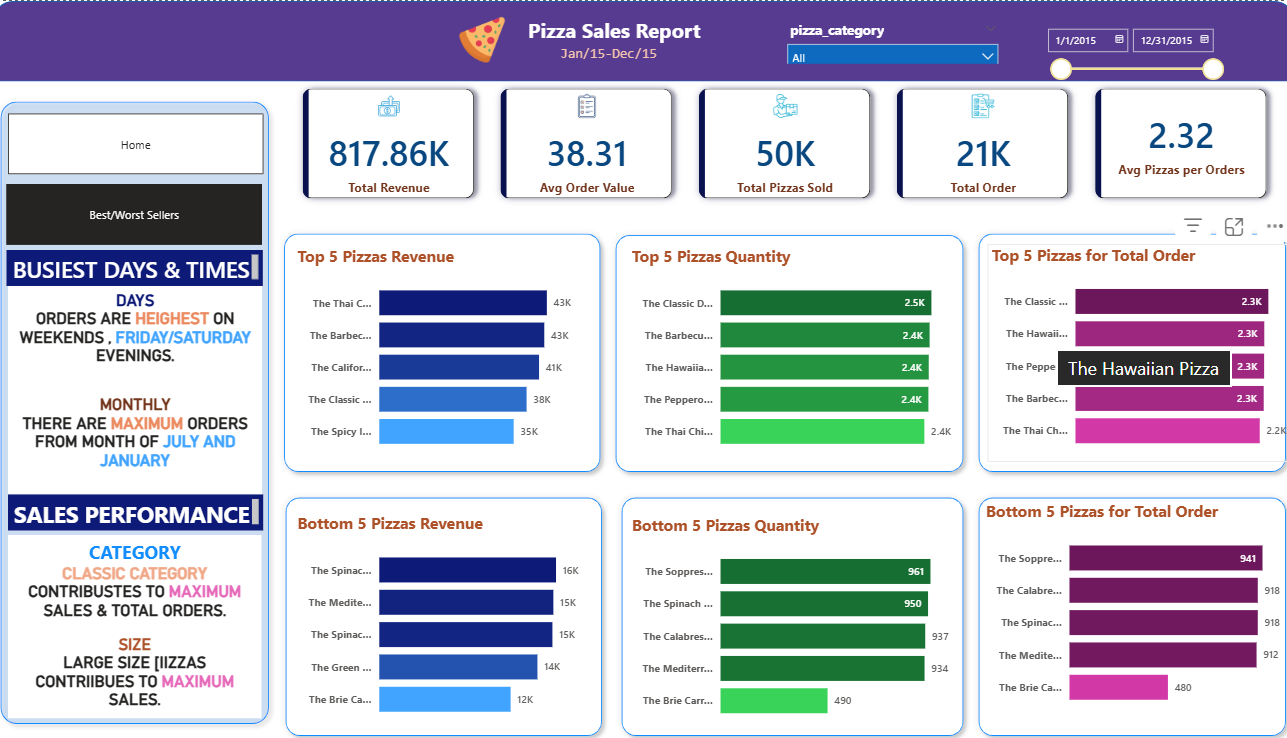

What the dashboard file says about the page in this screenshot:
{"tool":"powerbi","page":{"name":"Best/Worst Sellers","canvas":[1543,880],"ordinal":1},"visuals":[{"type":"cardVisual","fields":{"Data":["pizza_sales.Total Revenue","pizza_sales.Avg Order Value","pizza_sales.Total Pizzas Sold","pizza_sales.Total Order","pizza_sales.Avg Pizzas per Orders"]},"box":[338.1,74.9,1204.6,188.3],"z":0},{"type":"shape","box":[0,0,1543.5,95.5],"z":1000},{"type":"textbox","box":[408.9,12.8,655.3,67.5],"z":2000},{"type":"textbox","box":[649.5,47.9,161.5,31.9],"z":3000},{"type":"image","box":[533.9,17,92.4,56.6],"z":4000},{"type":"shape","box":[336.2,266.9,393.2,300.7],"z":5000},{"type":"shape","box":[0,110.3,336.2,756.1],"z":6000},{"type":"textbox","box":[16.2,295.6,303.7,42.5],"z":7000},{"type":"textbox","box":[18.2,338.1,301.7,247],"z":8000},{"type":"textbox","box":[17.8,585.3,302.4,42.7],"z":9000},{"type":"textbox","box":[17.8,633.3,300.7,217],"z":10000},{"type":"slicer","fields":{"Values":["pizza_sales (2).pizza_category"]},"box":[932.7,18.3,270.1,56.6],"z":11000},{"type":"slicer","fields":{"Values":["pizza_sales (2).order_date"]},"box":[1237.6,23.7,230,71.2],"z":12000},{"type":"shape","box":[729.4,268.6,430.5,298.9],"z":13000},{"type":"shape","box":[1159.9,266.9,382.5,300.7],"z":14000},{"type":"shape","box":[338,580,393.2,300.7],"z":15000},{"type":"shape","box":[736.5,580,423.4,300.7],"z":16000},{"type":"shape","box":[1159.9,580,382.5,300.7],"z":17000},{"type":"barChart","title":"Top 5 Pizzas Revenue ","fields":{"Category":["pizza_sales (2).pizza_name"],"Y":["pizza_sales.Total Revenue"]},"box":[355.8,290,355.8,256.2],"z":18000},{"type":"barChart","title":"Bottom 5 Pizzas Revenue ","fields":{"Category":["pizza_sales (2).pizza_name"],"Y":["pizza_sales.Total Revenue"]},"box":[355.9,606,355.9,257.4],"z":19000},{"type":"barChart","title":"Top 5 Pizzas Quantity","fields":{"Category":["pizza_sales (2).pizza_name"],"Y":["pizza_sales.Total Pizzas Sold"]},"box":[752.5,290,389.6,256.2],"z":20000},{"type":"barChart","title":"Bottom 5 Pizzas Quantity","fields":{"Category":["pizza_sales (2).pizza_name"],"Y":["pizza_sales.Total Pizzas Sold"]},"box":[752,607.8,388.8,257.4],"z":21000},{"type":"barChart","title":"Top 5 Pizzas for Total Order","fields":{"Category":["pizza_sales (2).pizza_name"],"Y":["pizza_sales.Total Order"]},"box":[1179.2,288.4,363.2,257.4],"z":22000},{"type":"barChart","title":"Bottom 5 Pizzas for Total Order","fields":{"Category":["pizza_sales (2).pizza_name"],"Y":["pizza_sales.Total Order"]},"box":[1171.9,593.2,363.2,257.4],"z":23000},{"type":"image","box":[267.2,214.6,54.7,72.9],"z":24000},{"type":"image","box":[18.2,224.7,48.6,56.7],"z":25000},{"type":"image","box":[18.2,133.6,74.9,60.7],"z":26000},{"type":"pageNavigator","box":[16.2,216.6,303.7,72.9],"z":27000},{"type":"pageNavigator","box":[18.2,133.6,303.7,72.9],"z":28000}]}

Visuals, with their boxes in screenshot pixels (x1, y1, x2, y2), scaled from the page's 1543x880 canvas onto the 1287x738 screenshot:
cardVisual - pizza_sales.Total Revenue x pizza_sales.Avg Order Value: Rect(282, 63, 1286, 221)
shape: Rect(0, 0, 1286, 80)
textbox: Rect(341, 11, 888, 67)
textbox: Rect(542, 40, 676, 67)
image: Rect(445, 14, 522, 62)
shape: Rect(280, 224, 608, 476)
shape: Rect(0, 93, 280, 727)
textbox: Rect(14, 248, 267, 284)
textbox: Rect(15, 284, 267, 491)
textbox: Rect(15, 491, 267, 527)
textbox: Rect(15, 531, 266, 713)
slicer - pizza_sales (2).pizza_category: Rect(778, 15, 1003, 63)
slicer - pizza_sales (2).order_date: Rect(1032, 20, 1224, 80)
shape: Rect(608, 225, 967, 476)
shape: Rect(967, 224, 1286, 476)
shape: Rect(282, 486, 610, 737)
shape: Rect(614, 486, 967, 737)
shape: Rect(967, 486, 1286, 737)
"Top 5 Pizzas Revenue " barChart: Rect(297, 243, 594, 458)
"Bottom 5 Pizzas Revenue " barChart: Rect(297, 508, 594, 724)
"Top 5 Pizzas Quantity" barChart: Rect(628, 243, 953, 458)
"Bottom 5 Pizzas Quantity" barChart: Rect(627, 510, 952, 726)
"Top 5 Pizzas for Total Order" barChart: Rect(984, 242, 1286, 458)
"Bottom 5 Pizzas for Total Order" barChart: Rect(977, 497, 1280, 713)
image: Rect(223, 180, 268, 241)
image: Rect(15, 188, 56, 236)
image: Rect(15, 112, 78, 163)
pageNavigator: Rect(14, 182, 267, 243)
pageNavigator: Rect(15, 112, 268, 173)
